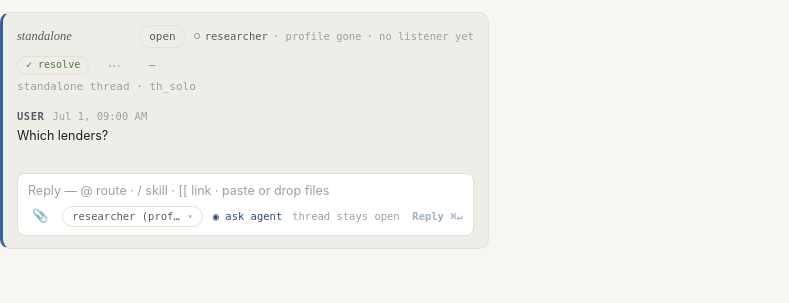
Scenario: designating a resident › says on the menu that a resident's profile has gone
Expected: the element with class "t-resident" is shown, [194,29,474,44]
Right-click the element with class "thread-card".
right_click(244, 131)  # box [0,12,489,249]
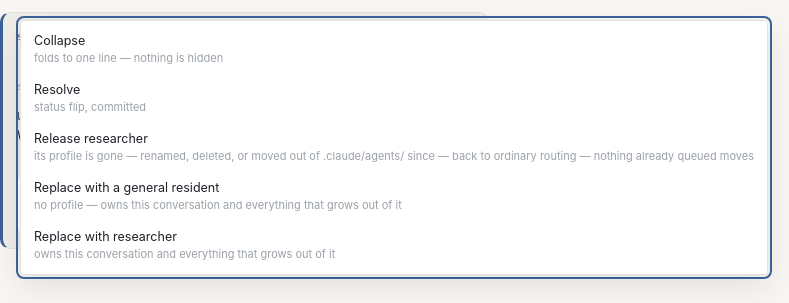
Now the menu item that starts with "Release researcher" is shown, box [25,123,763,172]
